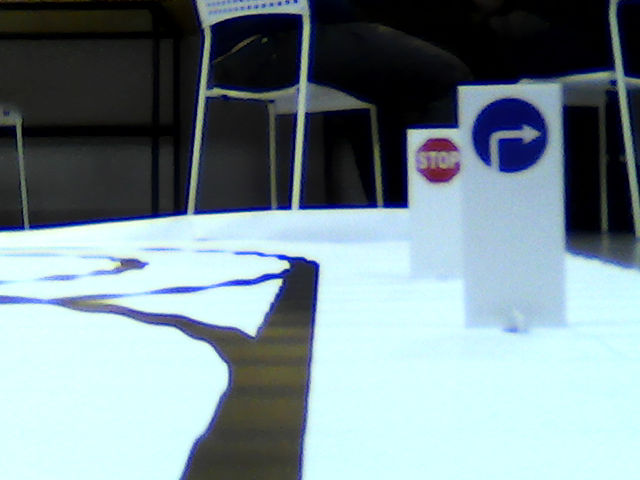Right: (470, 95, 550, 172)
Stop: (416, 133, 462, 187)
